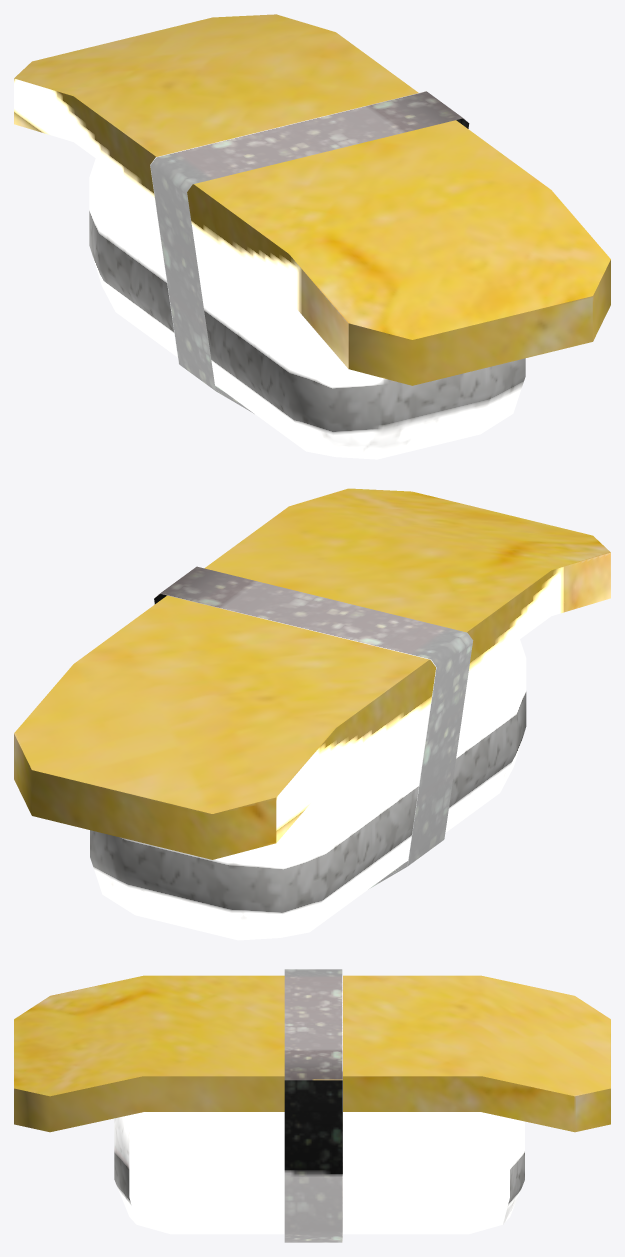
Rendered from SM_TamagoYaki.fbx.
The picture shows the model from 3 angles, top to bottom: view 1: azimuth 30°, elevation 25°; view 2: azimuth 150°, elevation 25°; view 3: azimuth 270°, elevation 25°; orthographic projection. The views are drawn at different scales.
Parts seen in each view (by area): view 1: SM_TamagoYaki_LOD0; view 2: SM_TamagoYaki_LOD0; view 3: SM_TamagoYaki_LOD0.
Boxes of the visible parts, box(x1,y1,x2,y2) form: SM_TamagoYaki_LOD0: box(14, 14, 610, 459); SM_TamagoYaki_LOD0: box(14, 488, 610, 940); SM_TamagoYaki_LOD0: box(14, 969, 610, 1242).
Bounding box in the file's own units: 3.73 × 8.72 × 3.15.
